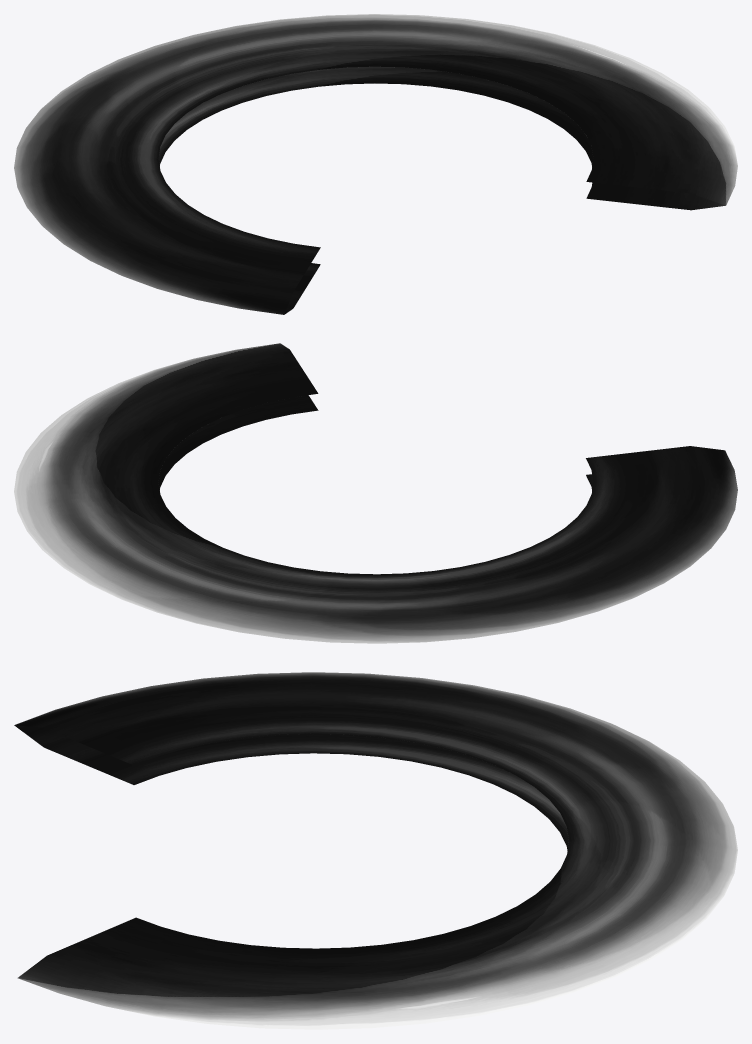
File: fx_Daoguang_01.FBX
3 renders of one model, top to bottom at view 1: azimuth 30°, elevation 25°; view 2: azimuth 150°, elevation 25°; view 3: azimuth 270°, elevation 25°, orthographic. The views are drawn at different scales.
Visible parts, largest first — view 1: Cylinder003; view 2: Cylinder003; view 3: Cylinder003.
Boxes of the visible parts, box(x1,y1,x2,y2) form: Cylinder003: box(14, 14, 737, 314); Cylinder003: box(14, 343, 737, 643); Cylinder003: box(14, 672, 737, 1029).
Bounding box in the file's own units: 84.4 × 2.16 × 72.21.
Materials: 1 (1 with a texture image).
